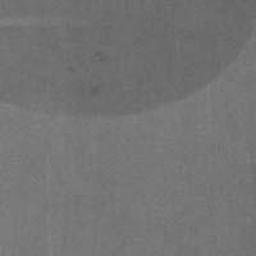Oil spot: (0, 0, 256, 122)
